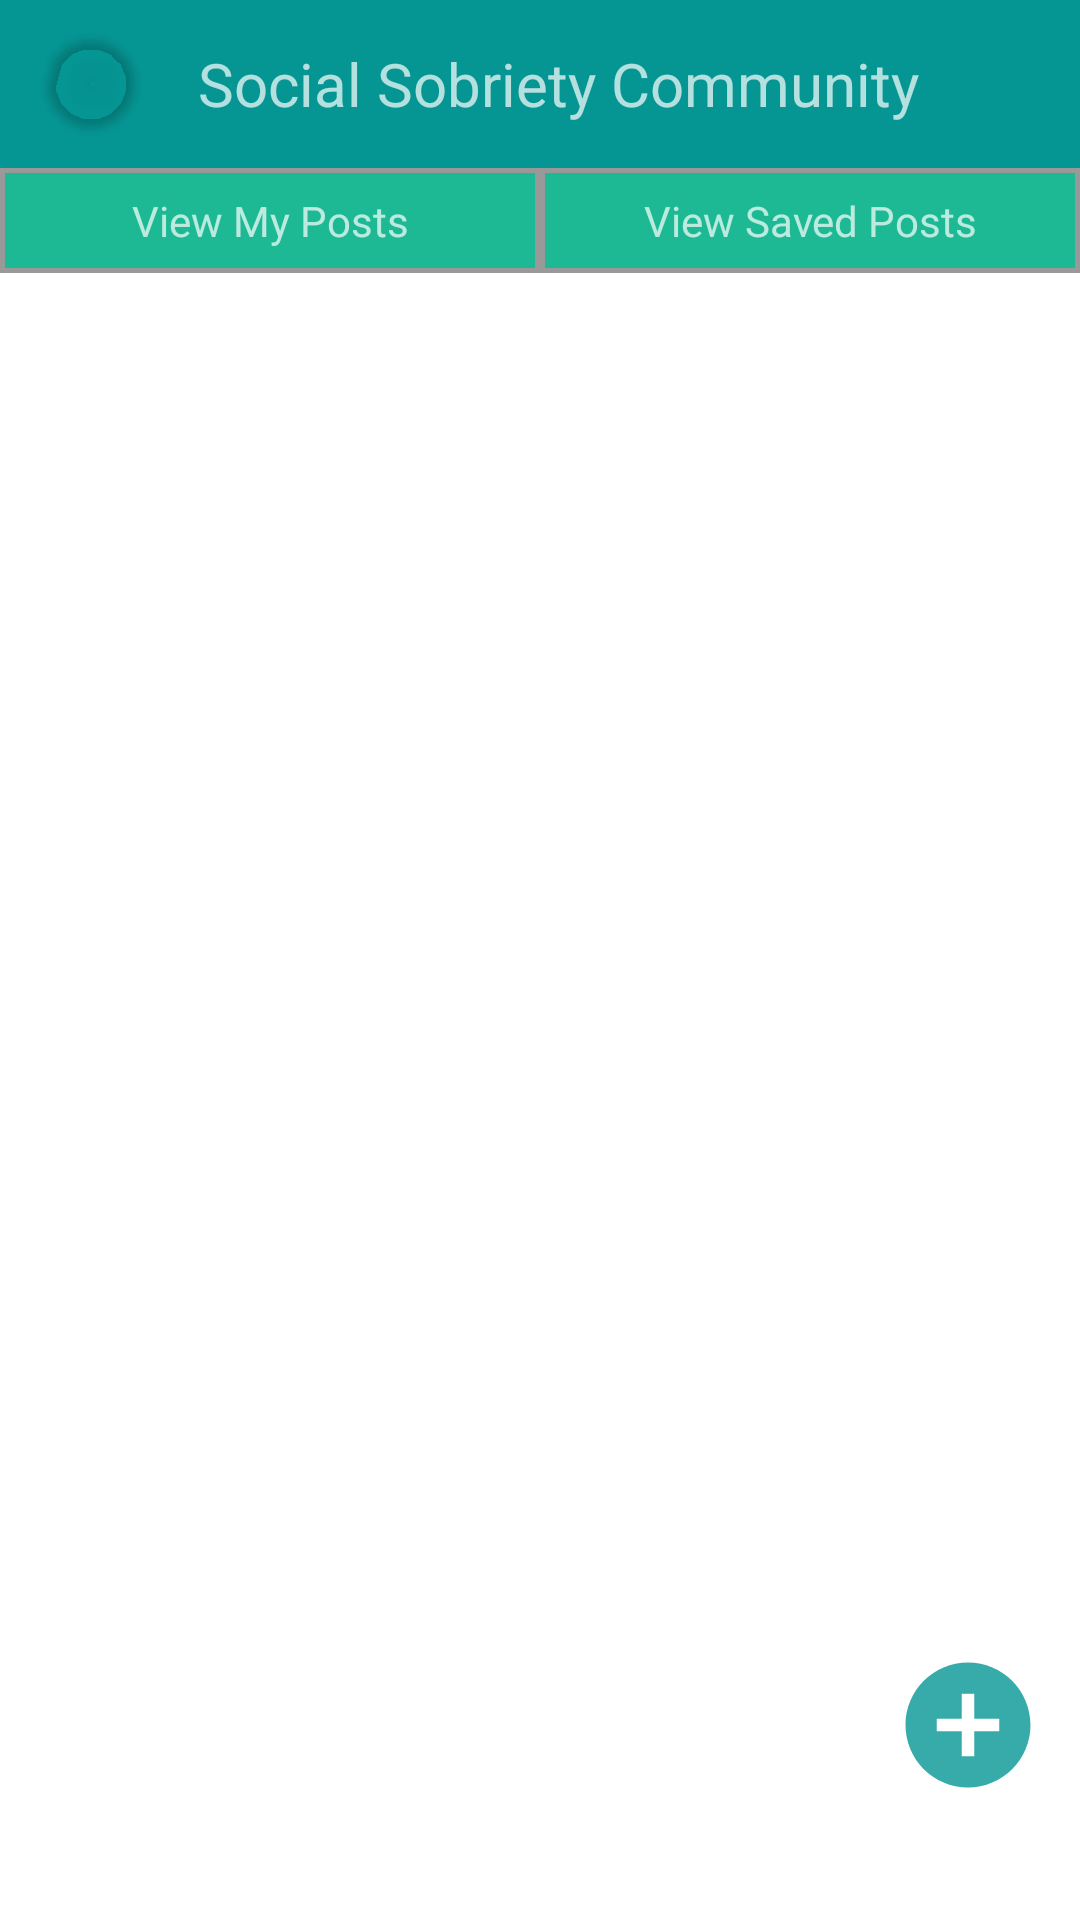

Point at icon controls on the screen. Image size 1080px×1920px, points as point (x, y).
add circle: point (968, 1725)
